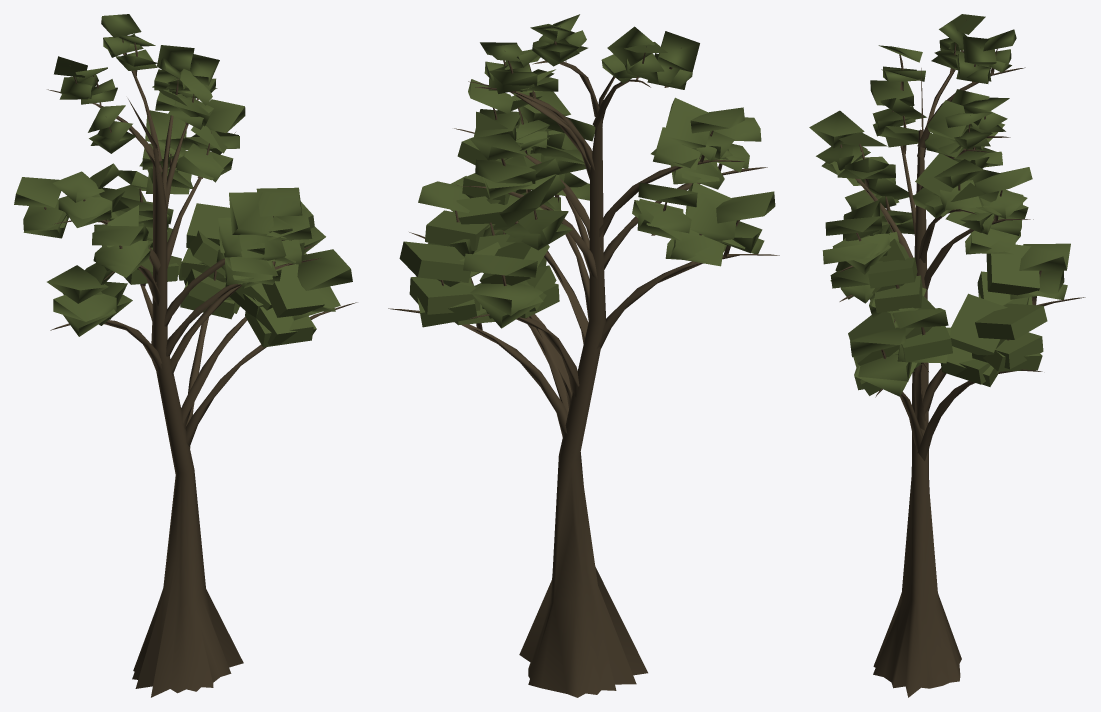
Rendered from Tree_BaldCypress_006.fbx.
The picture shows the model from 3 angles, left to right: view 1: azimuth 30°, elevation 25°; view 2: azimuth 150°, elevation 25°; view 3: azimuth 270°, elevation 25°; orthographic projection. The views are drawn at different scales.
Visible parts, largest first — view 1: Tree_BaldCypress.006; view 2: Tree_BaldCypress.006; view 3: Tree_BaldCypress.006.
Boxes of the visible parts, x1,y1,x2,y2 form: Tree_BaldCypress.006: [14, 14, 357, 697]; Tree_BaldCypress.006: [388, 14, 779, 697]; Tree_BaldCypress.006: [809, 14, 1085, 697].
Bounding box in the file's own units: 1334 × 2547 × 1025.
